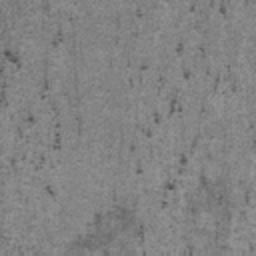Oxide scale of temperature system: (58, 5, 227, 256), (0, 29, 64, 195)
